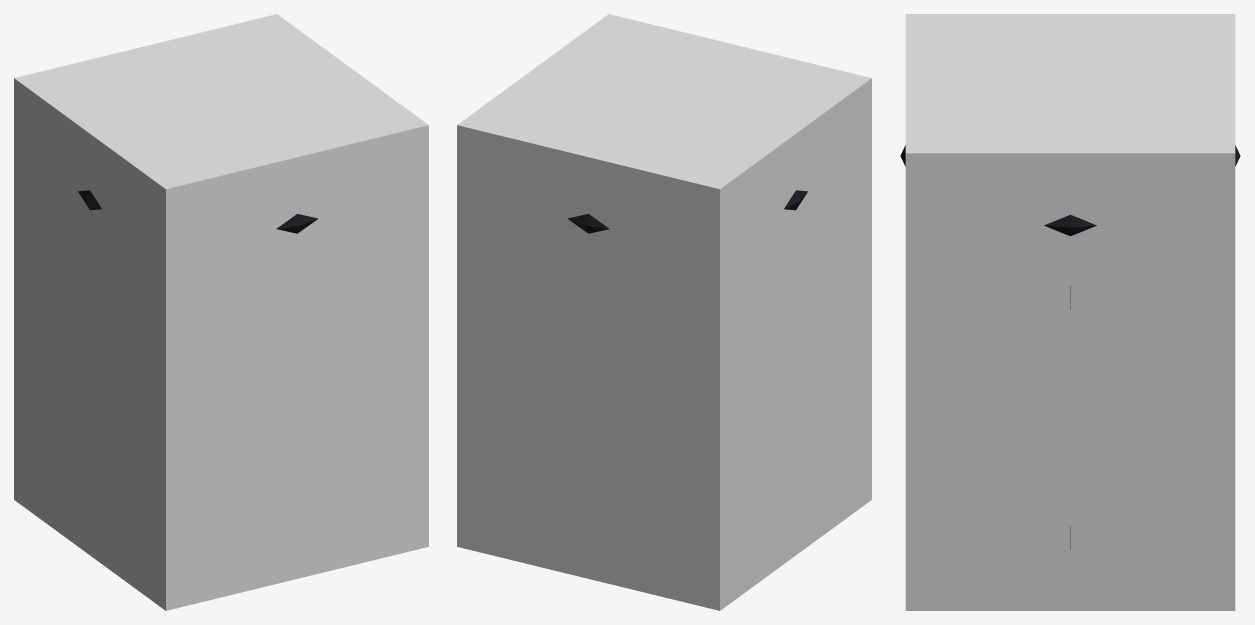
File: trash_can.glb
The picture shows the model from 3 angles, left to right: view 1: azimuth 30°, elevation 25°; view 2: azimuth 150°, elevation 25°; view 3: azimuth 270°, elevation 25°; orthographic projection. The views are drawn at different scales.
Parts seen in each view (by area): view 1: COL_Can, TrashCan; view 2: COL_Can, TrashCan; view 3: COL_Can, TrashCan.
Part boxes in pixels (x1=…): COL_Can: x1=14, y1=14, x2=428, y2=610; TrashCan: x1=78, y1=190, x2=318, y2=233; COL_Can: x1=457, y1=14, x2=871, y2=610; TrashCan: x1=567, y1=190, x2=807, y2=233; COL_Can: x1=905, y1=14, x2=1235, y2=610; TrashCan: x1=900, y1=145, x2=1240, y2=550.
Bounding box in the file's own units: 0.64 × 0.95 × 0.64.
Materials: 2 (2 with a texture image).
